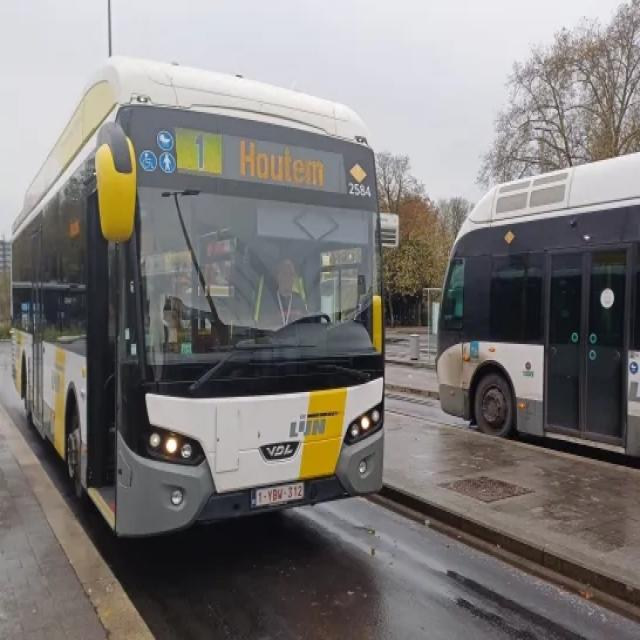bus-number: (177, 131, 222, 174)
